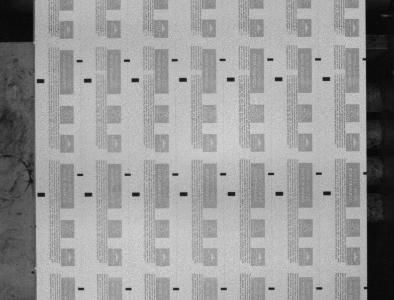backgroundclutter: (31, 271, 35, 274), (34, 267, 37, 270)
incorrect qblock: (363, 57, 367, 61), (363, 172, 368, 175), (364, 286, 368, 289)
qblock: (36, 78, 45, 85), (37, 192, 45, 197), (84, 78, 92, 83), (179, 77, 187, 82), (227, 77, 235, 82), (276, 191, 284, 196), (228, 191, 236, 196), (85, 192, 92, 197), (323, 77, 331, 81), (131, 78, 139, 82), (275, 77, 283, 81), (132, 192, 140, 196), (323, 191, 331, 195), (180, 192, 188, 196)
smallqblock: (76, 59, 84, 63), (220, 172, 227, 176), (316, 286, 323, 290), (172, 58, 178, 62), (124, 173, 131, 176), (268, 172, 275, 175), (172, 173, 179, 176), (315, 58, 322, 61), (173, 287, 180, 290), (221, 287, 228, 290), (125, 287, 132, 290), (124, 59, 130, 62), (316, 172, 322, 175), (220, 58, 226, 61), (268, 58, 274, 61), (77, 173, 83, 176), (78, 287, 84, 290), (269, 287, 275, 290)
